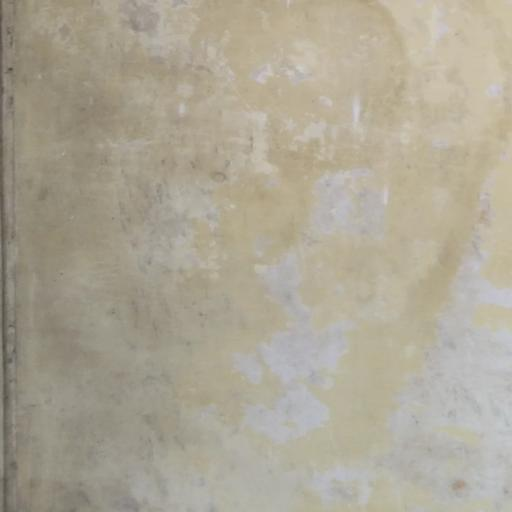peeling: (236, 34, 382, 446), (406, 199, 512, 512), (273, 429, 475, 512)
